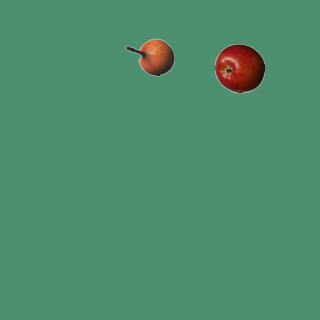Apple Braeburn: (214, 43, 264, 93)
Granadilla: (124, 32, 174, 82)
